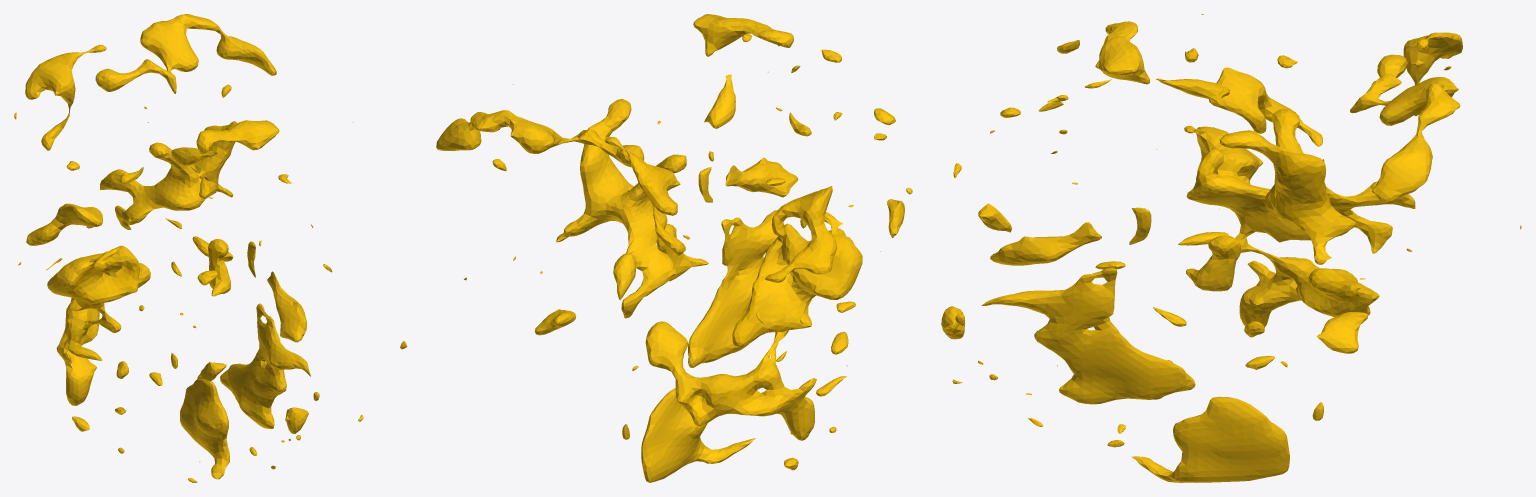
The model's file is case_1_penumbra.gltf.
3 renders of one model, left to right at view 1: azimuth 30°, elevation 25°; view 2: azimuth 150°, elevation 25°; view 3: azimuth 270°, elevation 25°, orthographic. The views are drawn at different scales.
Parts seen in each view (by area): view 1: penumbra; view 2: penumbra; view 3: penumbra.
Part boxes in pixels (x1,y1,x2,y2): penumbra: (14, 14, 407, 482); penumbra: (436, 14, 912, 482); penumbra: (941, 14, 1521, 482).
Size of the model in its own units: 1.41 by 1.64 by 1.95.
